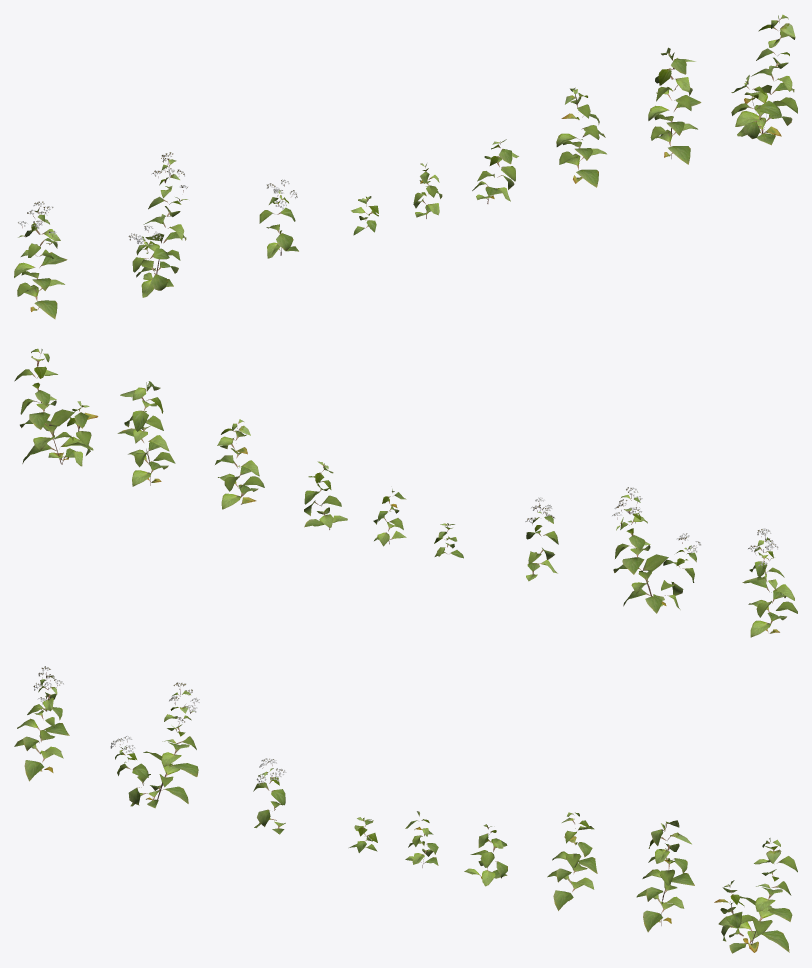
Rendered from shrub_01_low.glb.
3 renders of one model, top to bottom at view 1: azimuth 30°, elevation 25°; view 2: azimuth 150°, elevation 25°; view 3: azimuth 330°, elevation 25°, orthographic. The views are drawn at different scales.
Parts seen in each view (by area): view 1: shrub_01_a; view 2: shrub_01_a; view 3: shrub_01_a.
Part boxes in pixels (bbox=[...]): shrub_01_a: bbox=[14, 14, 797, 319]; shrub_01_a: bbox=[14, 348, 797, 637]; shrub_01_a: bbox=[14, 666, 797, 953].
Size of the model in its own units: 2.59 by 0.3954 by 0.2174.
Materials: 1 (1 with a texture image).
